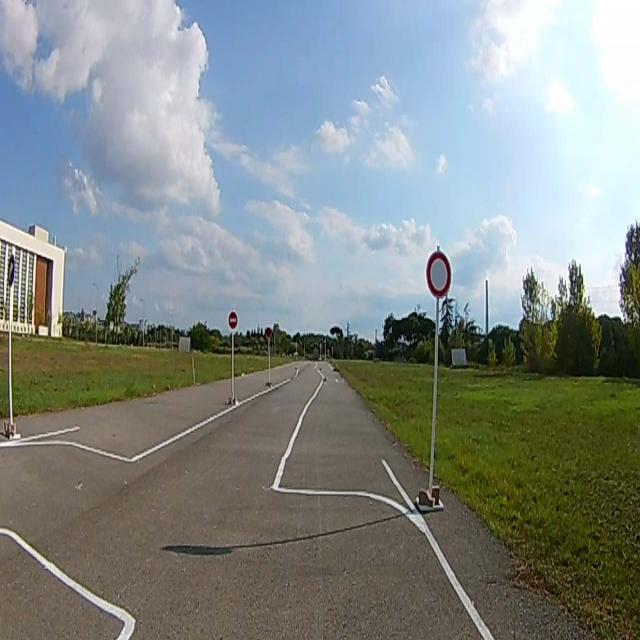girisyok: (228, 311, 238, 329)
sag: (8, 255, 15, 285)
